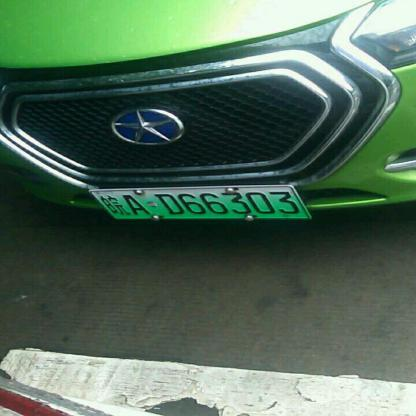lp: (90, 186, 310, 219)
